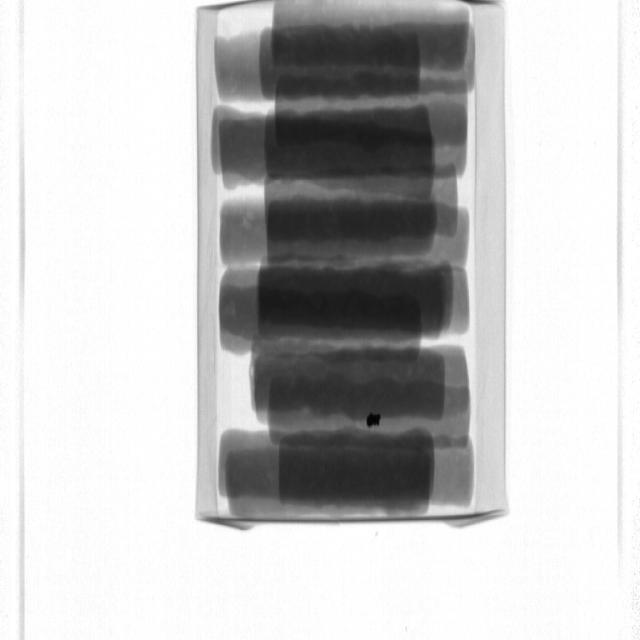ym: (366, 414, 381, 429)
